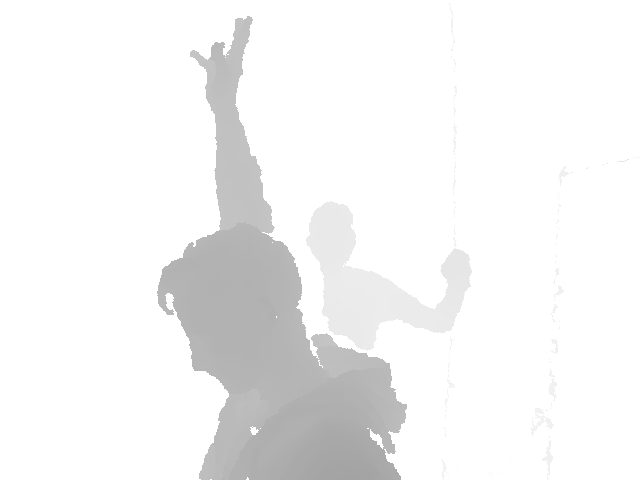hand: (189, 16, 252, 111)
head: (157, 222, 300, 388), (306, 201, 356, 272)
person: (158, 16, 409, 480), (306, 202, 473, 353)
